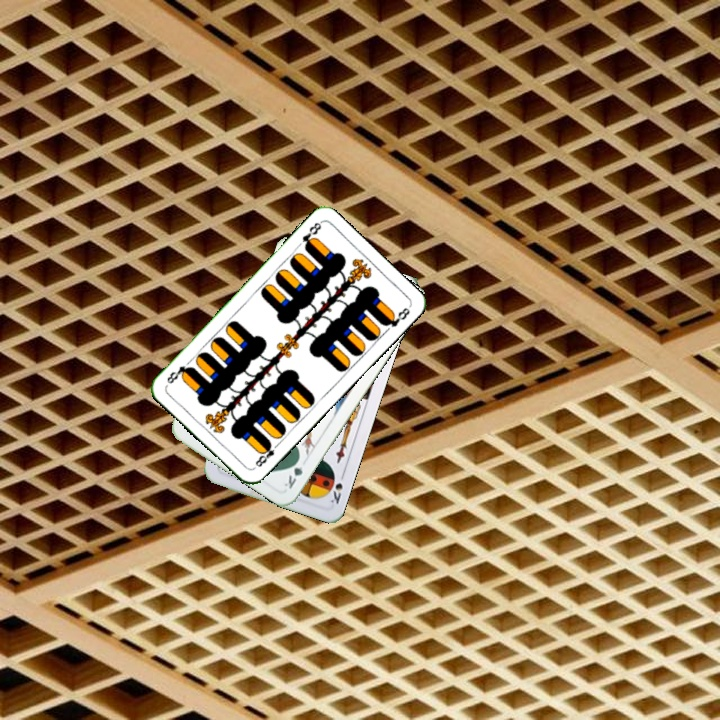E8: (250, 438, 282, 471), (298, 218, 324, 252)
GK: (280, 453, 307, 492)
SK: (325, 468, 347, 507)
